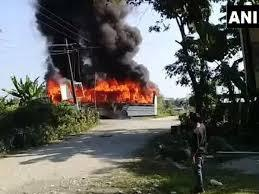fire: (45, 76, 155, 104), (47, 78, 62, 102)
